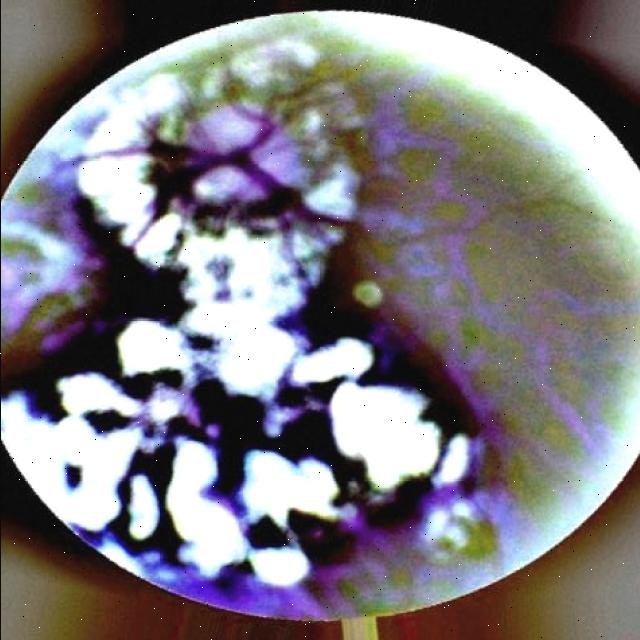Nerves: (241, 157, 623, 259), (247, 64, 381, 173), (100, 131, 230, 166)
Optic Disk: (184, 105, 300, 210)
